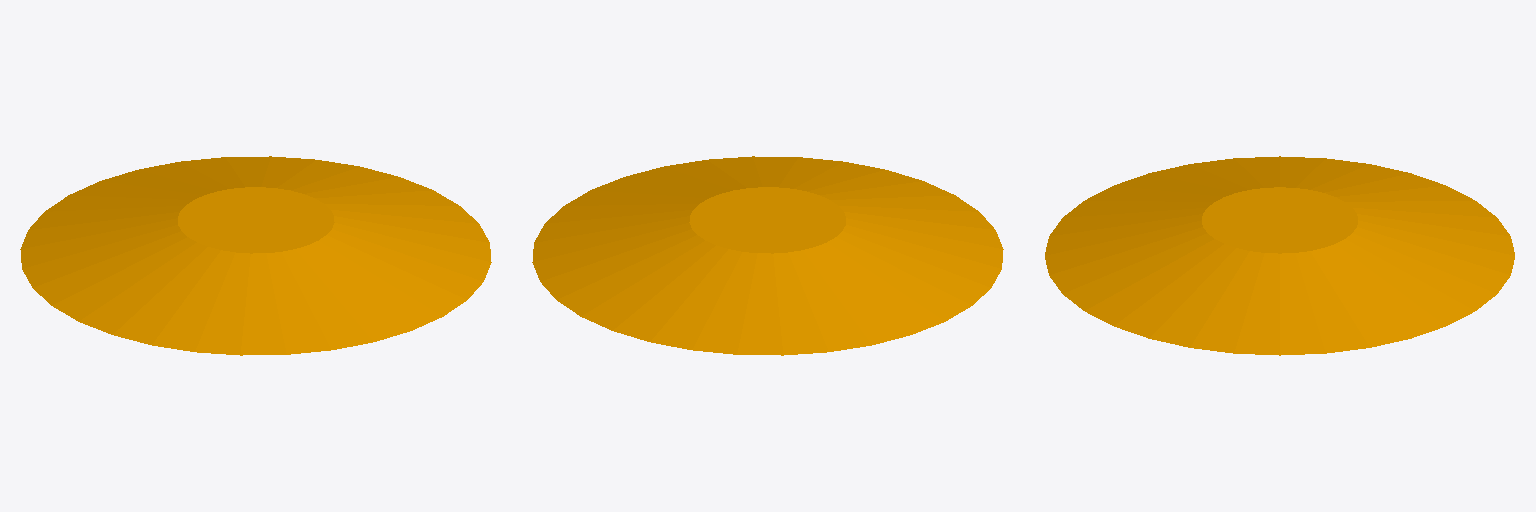
The robot description file, URDF, robot "object":
<?xml version="0.0"?>
	<robot name="object">
		<link name="object">
			<visual>
				<origin xyz="0 0 0"/>
				<geometry>
					<mesh filename="./geom/mesh.obj"/>
				</geometry>
			</visual>
			<inertial>
				<mass value="0.3"/>
			</inertial>
			<collision>
				<origin xyz="0 0 0"/>
				<geometry>
					<mesh filename="./geom/mesh.obj"/>
				</geometry>
			</collision>
		</link>

	</robot>

--- Facts derived from the render (not from the file) ---
3 views of the same robot in one strip: view 1: azimuth 30°, elevation 25°; view 2: azimuth 150°, elevation 25°; view 3: azimuth 270°, elevation 25° (orthographic).
Model object with 1 links and 0 joints (none), rooted at object, posed all joints at 0.
Visible links, largest first — view 1: object; view 2: object; view 3: object.
Boxes of the visible links, x1,y1,x2,y2 form: object: (20, 156, 491, 355); object: (532, 156, 1003, 355); object: (1045, 156, 1514, 355).
Size in the robot's own frame: 0.24 by 0.24 by 0.02 metres.
Meshes: 1 distinct files referenced, 1 mesh visuals loaded (1 OBJ).
